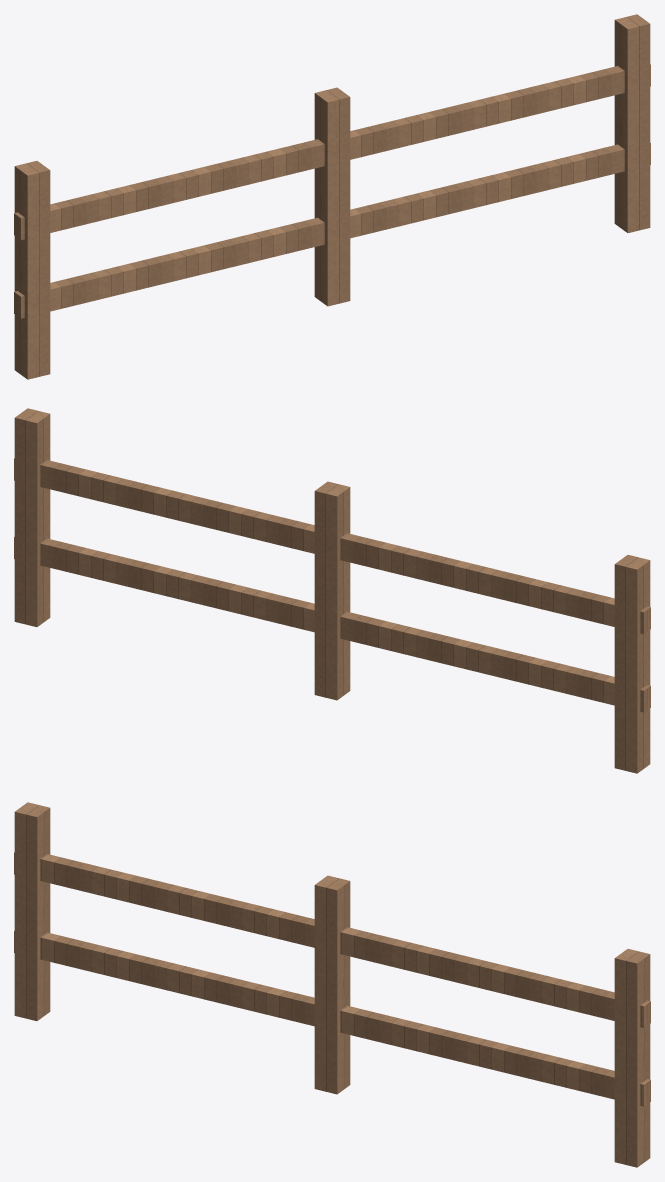
Rendered from env_fence.glb.
3 renders of one model, top to bottom at view 1: azimuth 30°, elevation 25°; view 2: azimuth 150°, elevation 25°; view 3: azimuth 330°, elevation 25°, orthographic.
Visible parts, largest first — view 1: env_fence; view 2: env_fence; view 3: env_fence.
Part boxes in pixels (x1,y1,x2,y2): env_fence: [14, 14, 650, 379]; env_fence: [14, 408, 650, 773]; env_fence: [14, 802, 650, 1167].
Size of the model in its own units: 4.2 by 1.3 by 0.15.
1 material, 1 textured.
